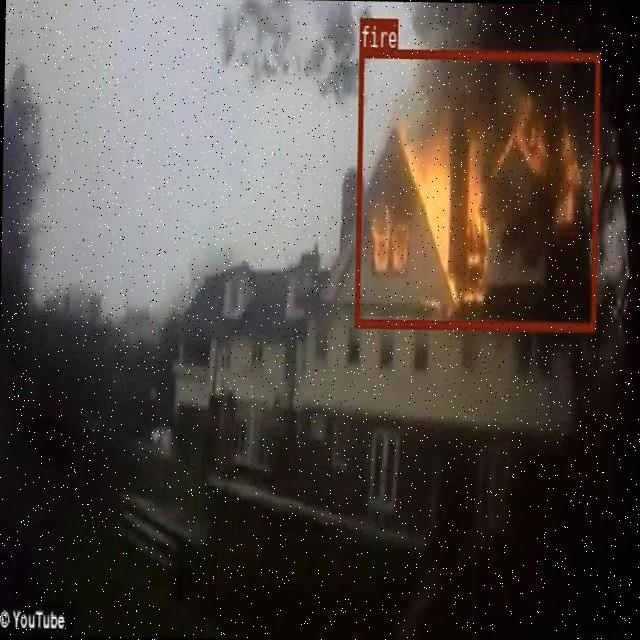fire: (354, 48, 599, 330)
